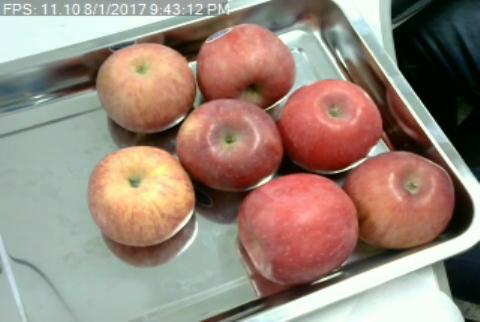apple: (239, 174, 359, 286), (88, 147, 194, 245), (353, 152, 454, 250), (281, 81, 382, 175), (178, 99, 283, 189), (96, 43, 197, 135), (198, 23, 296, 104)
